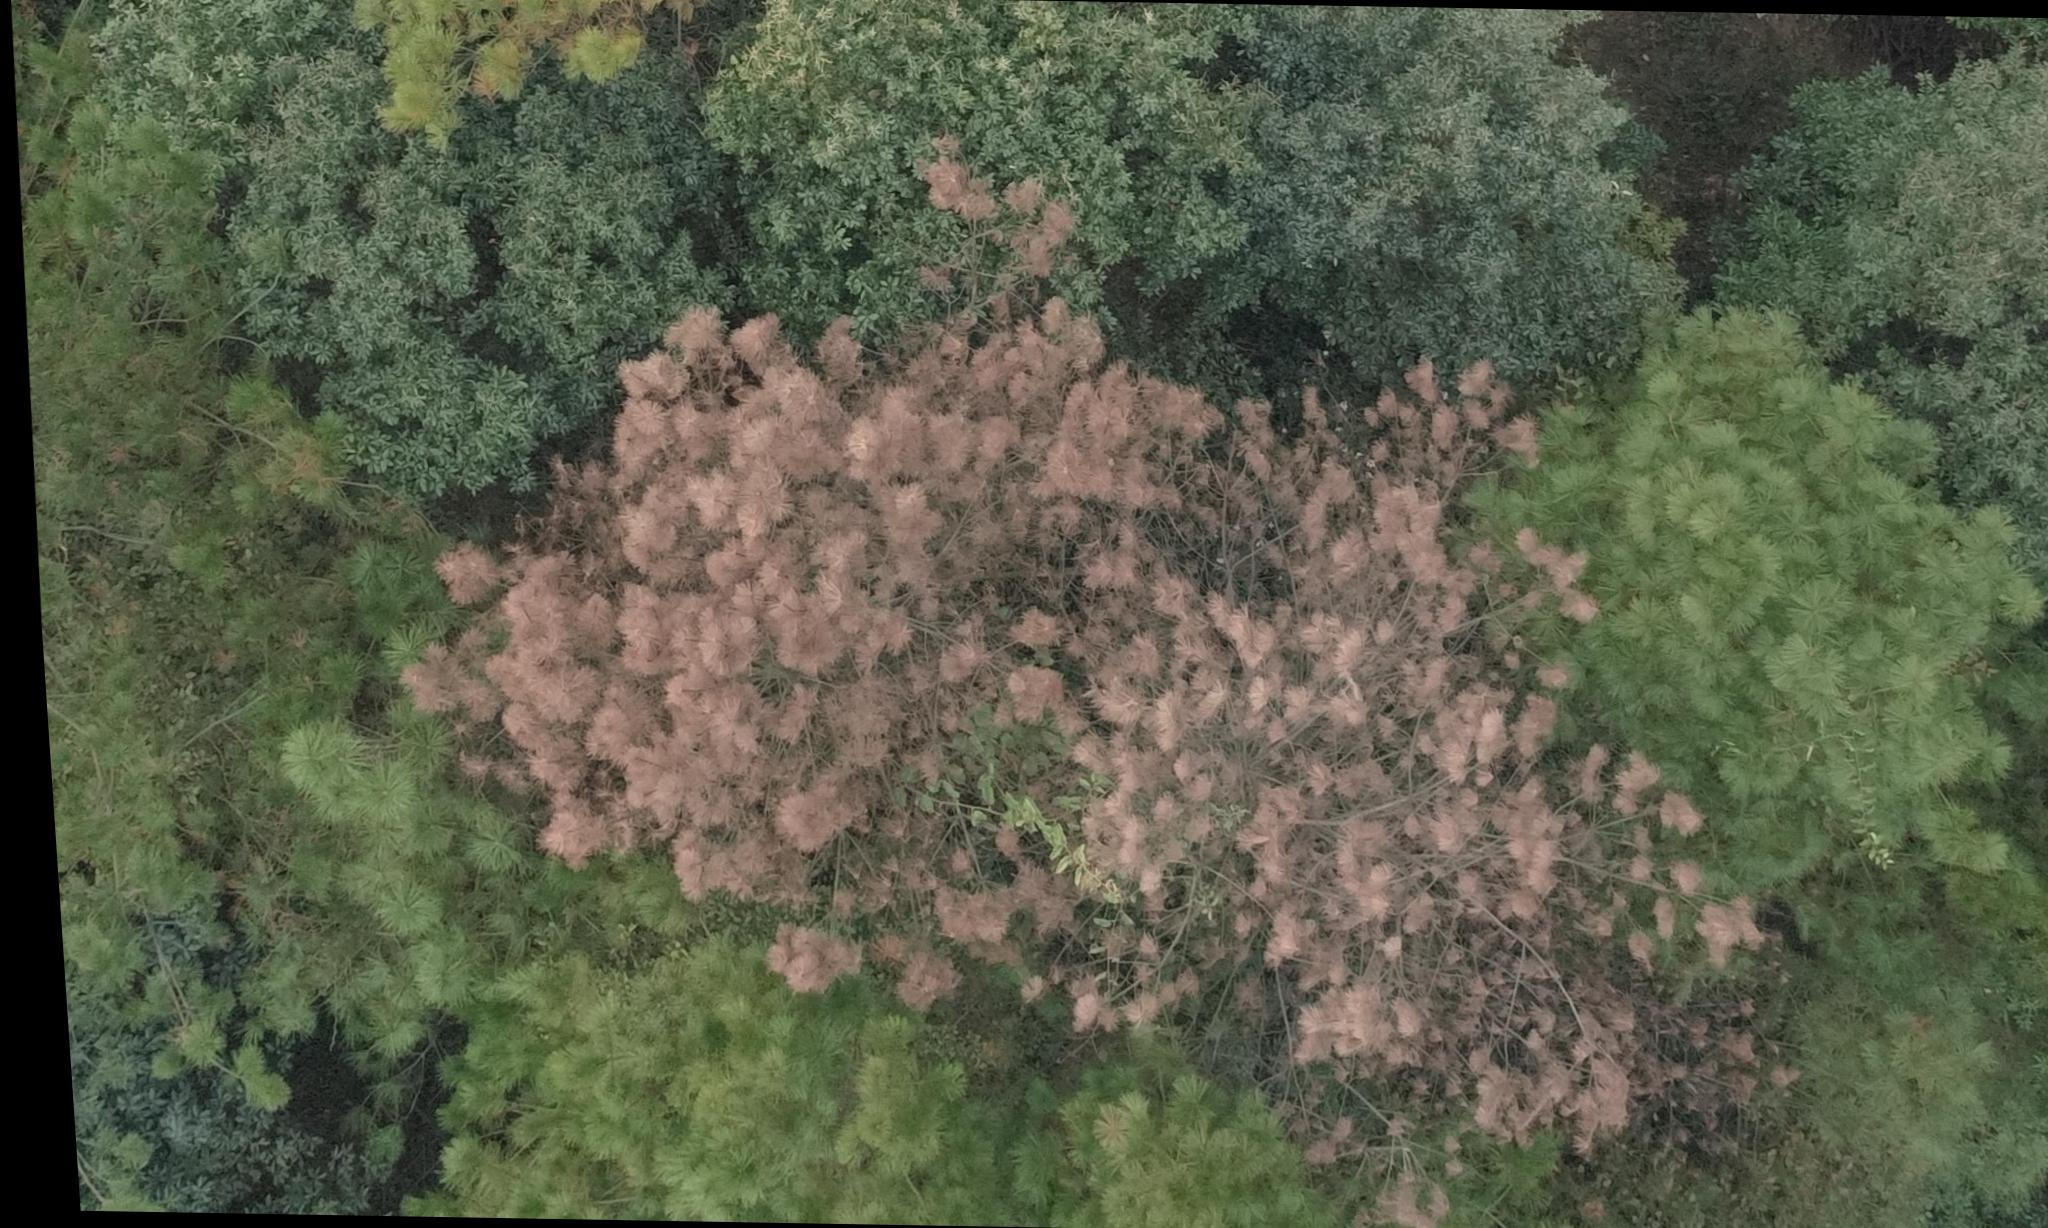heavy: (406, 189, 1184, 1007), (1155, 351, 1754, 1120)
light: (360, 0, 668, 140)
